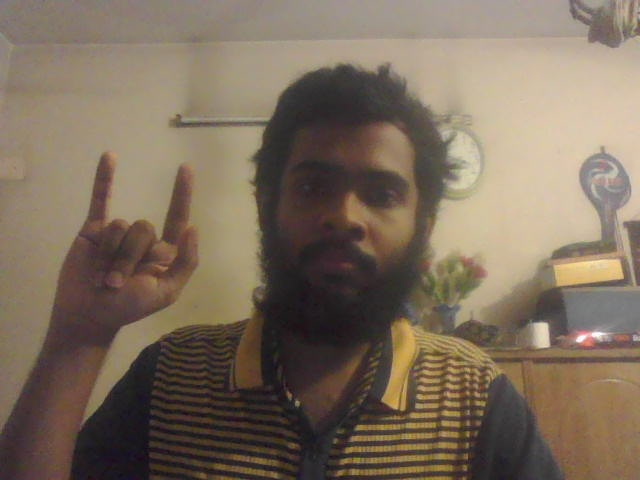I Love You: (53, 152, 211, 326)
